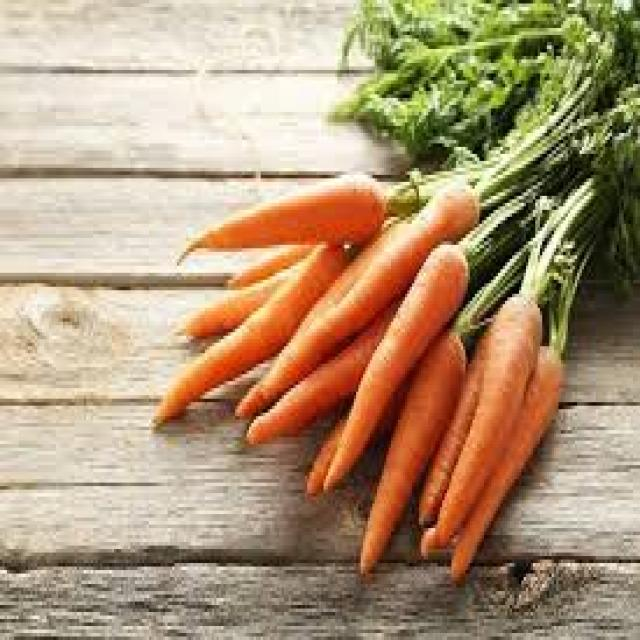organic waste: (260, 172, 474, 396), (330, 4, 633, 150), (475, 18, 635, 270), (321, 238, 468, 493), (149, 241, 344, 423), (440, 164, 638, 326), (233, 214, 391, 416), (356, 325, 466, 574), (435, 286, 540, 538), (447, 342, 561, 574), (172, 168, 384, 266), (240, 297, 388, 437), (416, 314, 488, 524), (538, 172, 614, 346), (170, 241, 286, 336), (221, 242, 319, 284), (305, 406, 342, 490), (414, 518, 445, 566)
